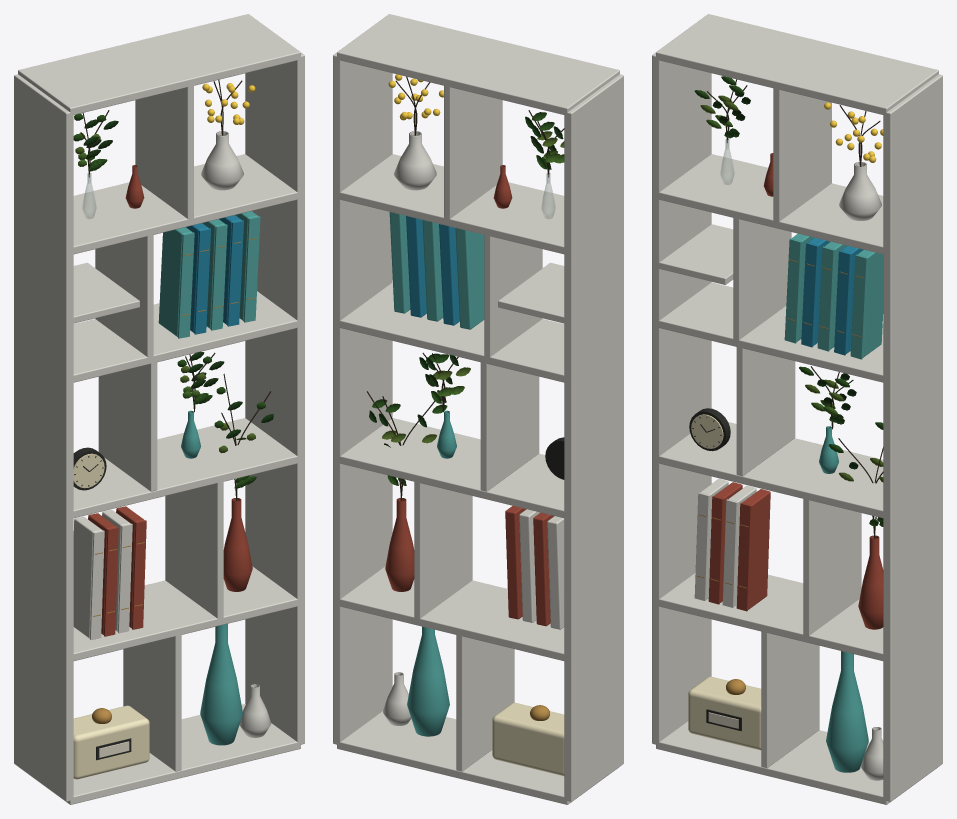
The model's file is 09-white-asymmetric-bookcase.glb.
3 renders of one model, left to right at view 1: azimuth 30°, elevation 25°; view 2: azimuth 150°, elevation 25°; view 3: azimuth 330°, elevation 25°, orthographic.
Parts seen in each view (by area): view 1: Ivory painted wood, Teal ceramic, Rust accent, Cream ceramic, Blue painted wood, Leaf green 1, Woven brown rattan, Leaf green 0, Charcoal steel, Golden flower center; view 2: Ivory painted wood, Teal ceramic, Rust accent, Cream ceramic, Blue painted wood, Leaf green 1, Woven brown rattan, Leaf green 4, Charcoal steel, Leaf green 0, Golden flower center; view 3: Ivory painted wood, Teal ceramic, Rust accent, Cream ceramic, Blue painted wood, Leaf green 1, Charcoal steel, Woven brown rattan, Golden flower center, Leaf green 4.
Boxes of the visible parts, x1,y1,x2,y2 form: Ivory painted wood: (14,14,304,804); Teal ceramic: (158,211,260,745); Rust accent: (88,165,252,636); Cream ceramic: (73,453,149,779); Blue painted wood: (186,215,243,334); Leaf green 1: (73,113,265,488); Woven brown rattan: (80,80,270,500); Leaf green 0: (83,119,273,438); Charcoal steel: (73,447,131,760); Golden flower center: (202,83,255,124); Ivory painted wood: (333,14,623,804); Teal ceramic: (389,212,484,736); Rust accent: (385,165,554,626); Cream ceramic: (492,702,564,776); Blue painted wood: (406,216,459,325); Leaf green 1: (372,112,554,485); Woven brown rattan: (367,76,564,500); Leaf green 4: (382,131,564,443); Charcoal steel: (545,437,564,479); Leaf green 0: (369,116,563,427); Golden flower center: (388,74,443,120); Ivory painted wood: (652,14,942,804); Teal ceramic: (784,233,883,772); Rust accent: (708,153,883,629); Cream ceramic: (688,414,761,750); Blue painted wood: (801,237,863,355); Leaf green 1: (694,76,883,526); Charcoal steel: (689,408,741,731); Woven brown rattan: (706,79,883,538); Golden flower center: (824,102,883,162); Leaf green 4: (700,95,883,482).
Bounding box in the file's own units: 0.683 × 1.9 × 0.26.
16 materials, 6 textured.
